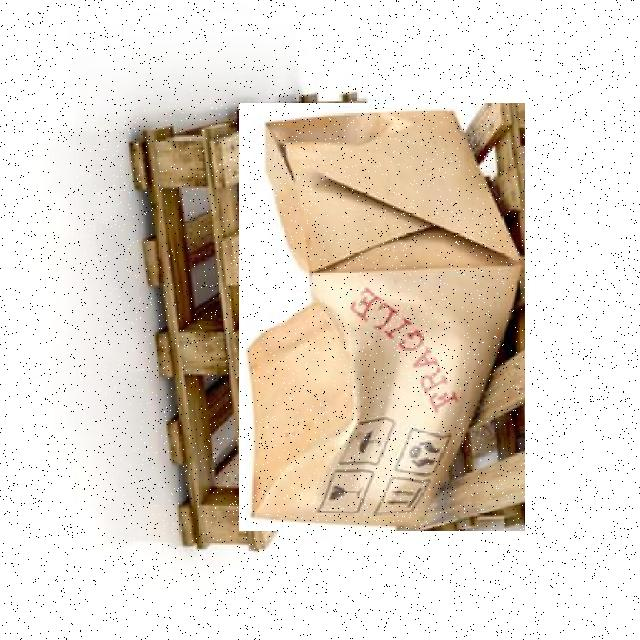defect: (238, 103, 524, 531)
